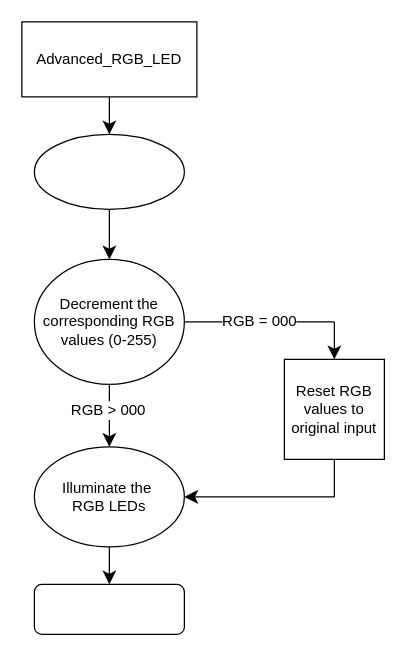
Some shapes in this 406 by 656 pixel diagram are drawn without their labels. The centre of each missing label's shape, as x and y in pixels:
"Exit interrupt handler" goes at [108,608].
"Timer interrupt" goes at [108,171].
